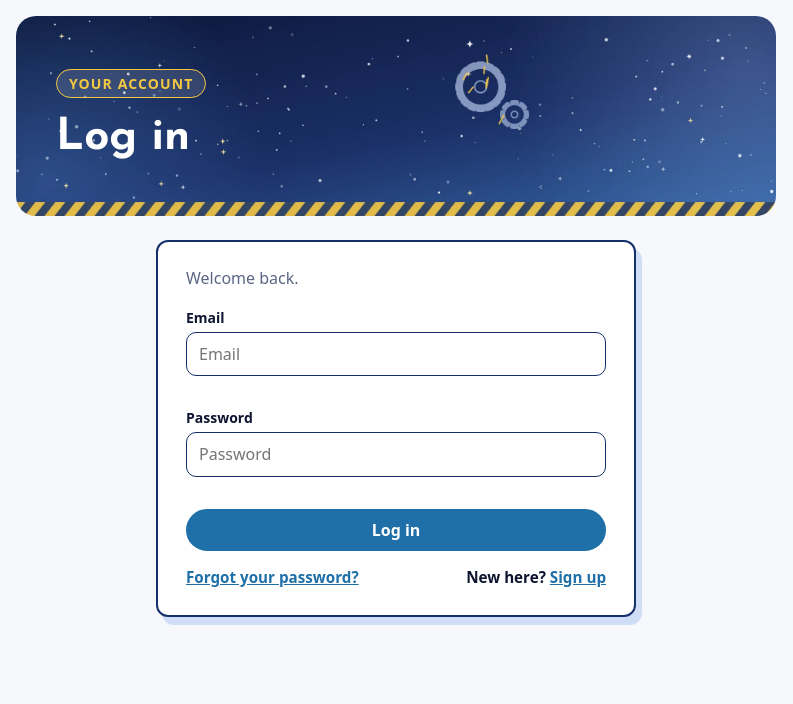
log in › says what is missing, in a summary and under each field, without asking the service anything
The image size is (793, 704).
Click the button "Log in".
click(396, 530)  # box 186,509 -> 606,551
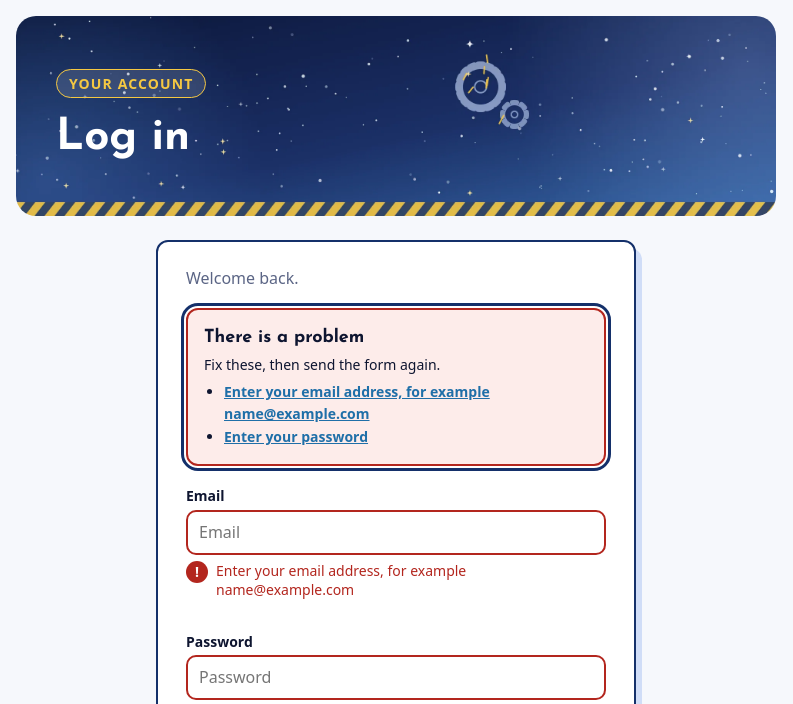
Result: the heading "There is a problem" is shown at 204,328 -> 364,347
Result: the links read "Enter your email address, for example name@example.com", "Enter your password", in this order at 224,382 -> 490,423; 224,427 -> 368,446
Result: the element with id "login-email-error" shows "Enter your email address" at 216,560 -> 466,599
